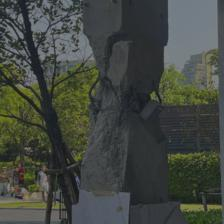High: (75, 27, 176, 205)
